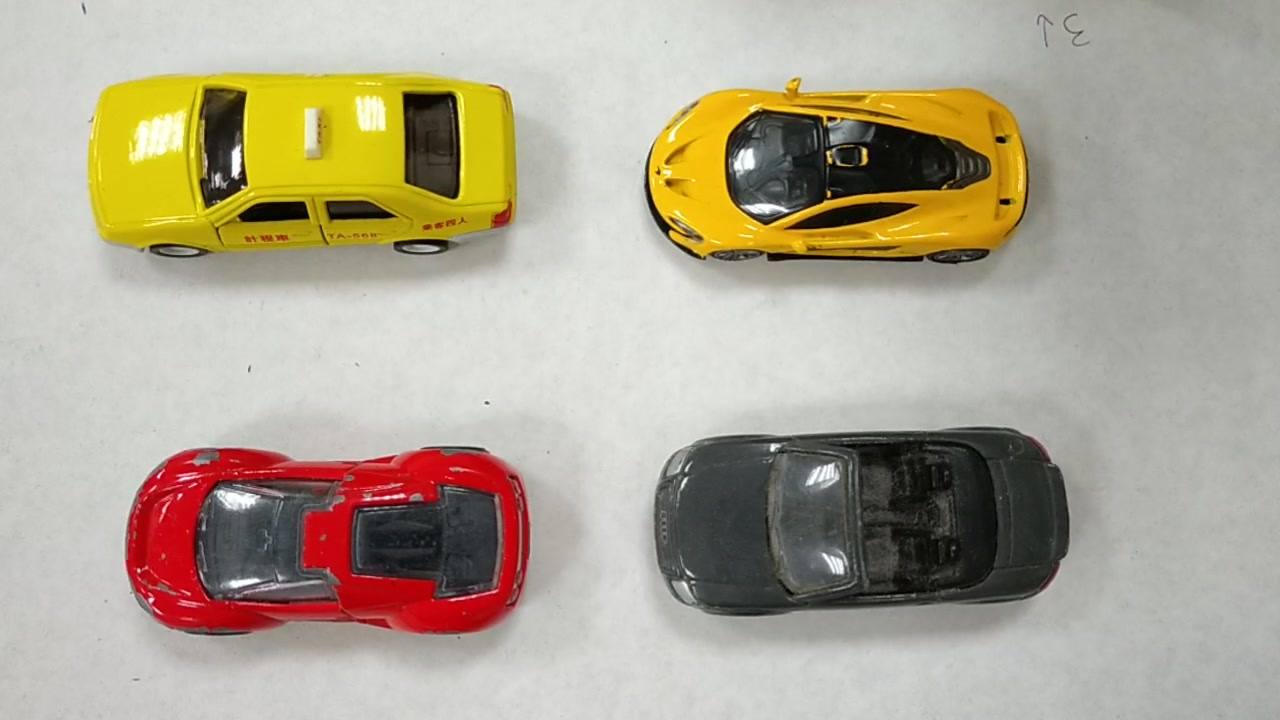car: (86, 75, 525, 264), (656, 424, 1078, 616), (125, 445, 525, 645), (646, 103, 1042, 273)
